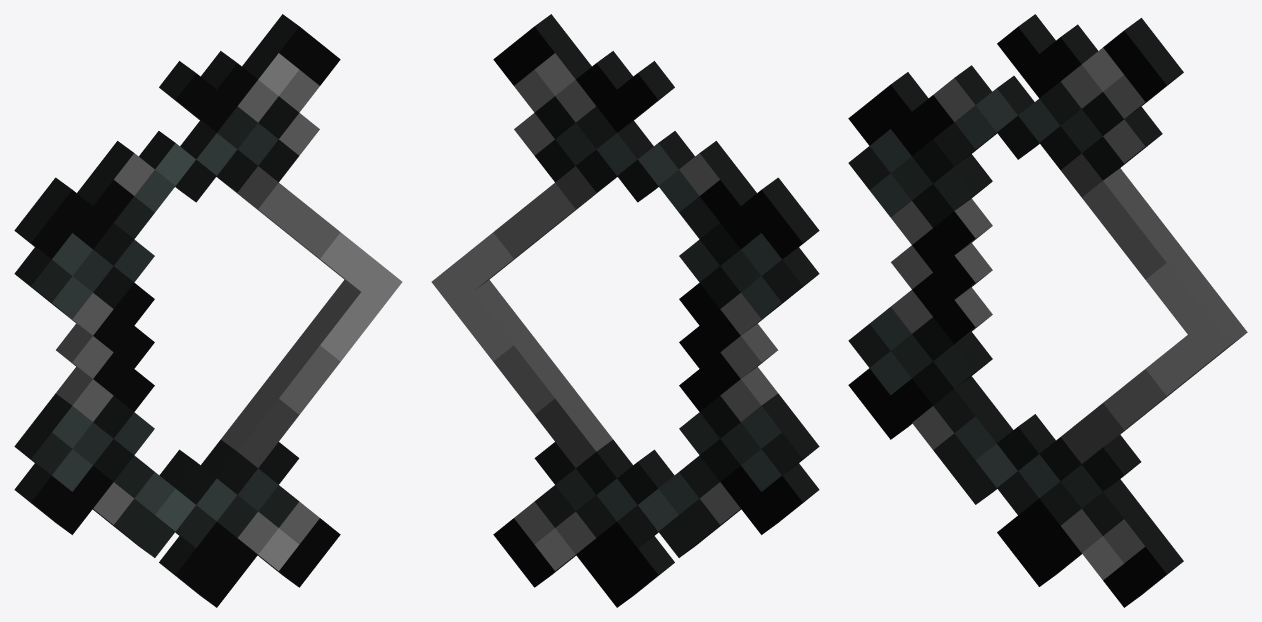
Rendered from SM_Shortbow_Unique3_4.glb.
The picture shows the model from 3 angles, left to right: view 1: azimuth 30°, elevation 25°; view 2: azimuth 150°, elevation 25°; view 3: azimuth 330°, elevation 25°; orthographic projection. The views are drawn at different scales.
Parts seen in each view (by area): view 1: SM_Shortbow_Unique3_4.001; view 2: SM_Shortbow_Unique3_4.001; view 3: SM_Shortbow_Unique3_4.001.
Boxes of the visible parts, x1,y1,x2,y2 form: SM_Shortbow_Unique3_4.001: (14, 14, 402, 607); SM_Shortbow_Unique3_4.001: (431, 14, 819, 607); SM_Shortbow_Unique3_4.001: (848, 14, 1247, 607).
Size of the model in its own units: 79.55 by 115 by 6.25.
Materials: 1 (1 with a texture image).
